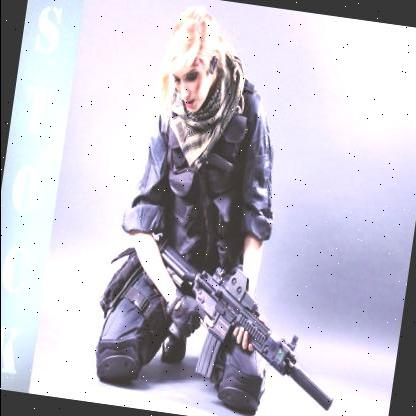rifle: (136, 234, 352, 414)
